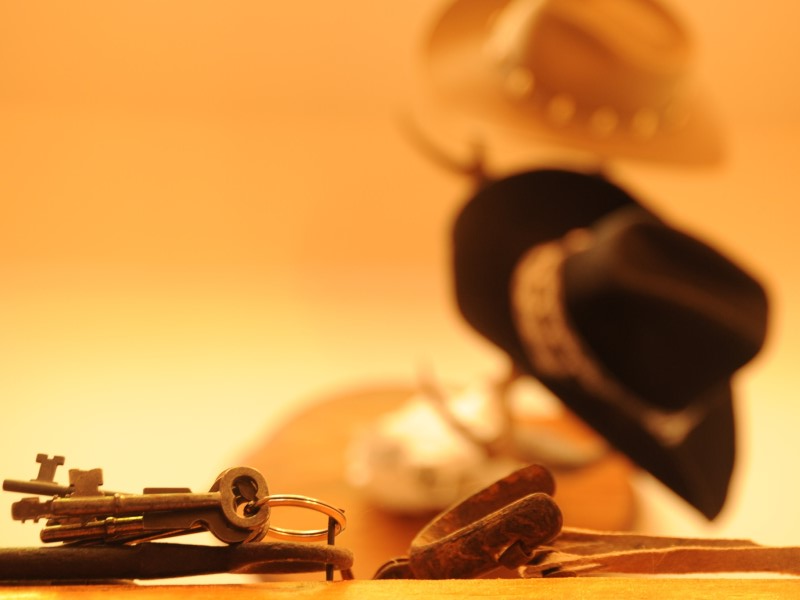key: (2, 450, 268, 553)
